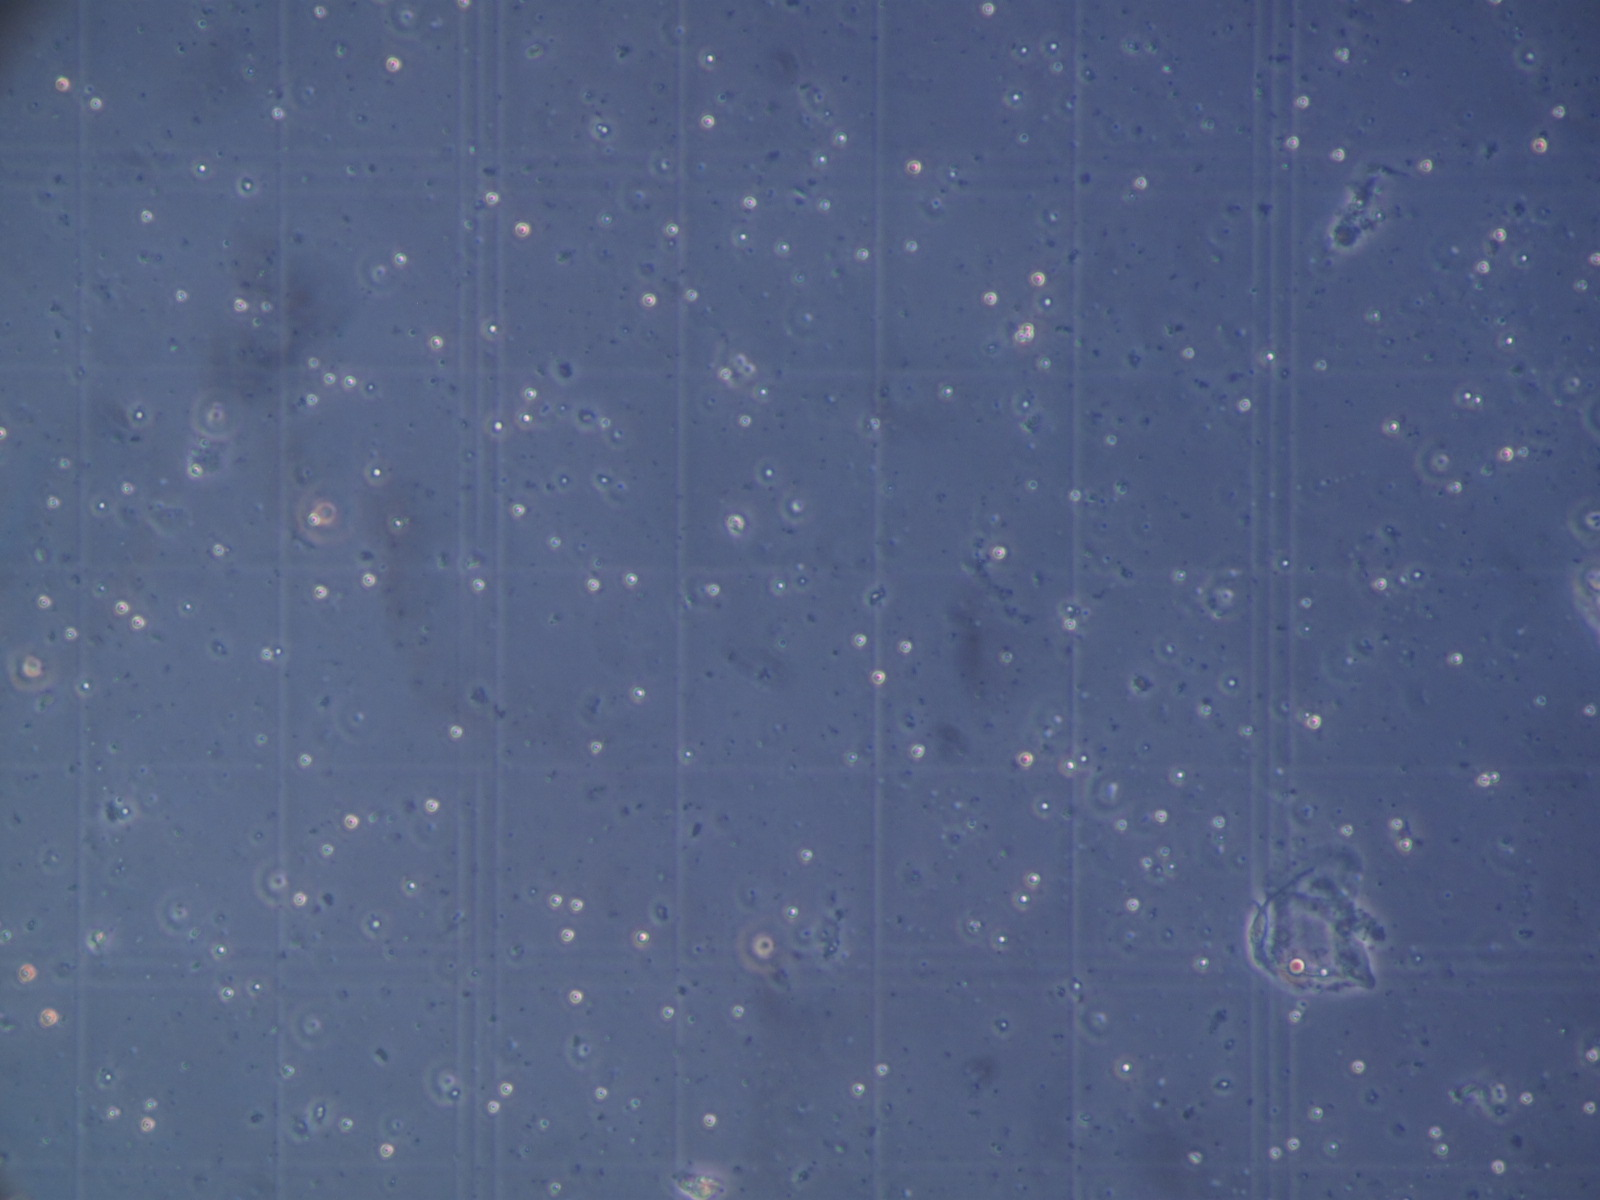virus: (777, 489, 813, 524), (1512, 39, 1545, 73), (753, 454, 784, 487), (360, 909, 391, 940), (1010, 389, 1041, 418), (989, 1008, 1017, 1039), (362, 459, 391, 487), (1111, 1053, 1139, 1082), (1032, 287, 1061, 315), (1217, 669, 1246, 697), (1072, 746, 1099, 776), (125, 400, 151, 429), (483, 413, 511, 440), (1511, 243, 1538, 270), (477, 316, 506, 342), (551, 466, 577, 493), (1032, 793, 1058, 819), (1010, 38, 1036, 66), (1451, 382, 1477, 410), (590, 118, 619, 142), (988, 926, 1014, 952), (1002, 86, 1028, 111), (1039, 32, 1065, 58), (829, 124, 854, 149), (234, 171, 260, 197), (88, 493, 113, 517), (244, 976, 271, 998), (1012, 891, 1039, 913), (729, 224, 753, 248), (697, 47, 721, 71), (769, 574, 792, 597), (73, 673, 98, 696), (677, 742, 699, 765), (1275, 551, 1296, 575), (1023, 868, 1044, 891), (1497, 329, 1519, 350), (1169, 763, 1189, 787), (1060, 753, 1078, 778), (115, 802, 136, 823), (98, 1065, 118, 1087), (270, 642, 290, 663), (1407, 566, 1427, 587), (1471, 387, 1488, 411), (389, 512, 407, 532), (1018, 749, 1036, 768), (191, 160, 212, 176), (178, 597, 197, 614), (1304, 713, 1322, 730), (513, 223, 530, 238), (1490, 227, 1508, 242), (107, 1105, 123, 1121), (511, 503, 527, 519), (910, 742, 925, 759), (906, 160, 922, 175), (1262, 350, 1279, 366), (1477, 258, 1493, 274), (1585, 1047, 1599, 1065), (220, 984, 236, 1000), (1330, 147, 1346, 163), (1532, 137, 1547, 153), (1196, 955, 1211, 971), (404, 877, 418, 894), (1477, 771, 1490, 788), (1492, 1158, 1506, 1175), (54, 78, 69, 92), (386, 58, 401, 72), (568, 991, 583, 1005), (569, 899, 585, 913), (800, 848, 814, 863), (430, 334, 443, 349), (700, 115, 716, 129), (776, 241, 791, 255), (871, 671, 886, 684), (1031, 272, 1046, 286), (1126, 897, 1140, 913), (1519, 1092, 1534, 1105), (1584, 1100, 1597, 1116), (990, 547, 1007, 560), (233, 299, 247, 313), (731, 1005, 745, 1018), (738, 415, 752, 429), (1552, 105, 1566, 118), (1374, 576, 1388, 590), (1450, 652, 1464, 666), (1212, 814, 1226, 828), (1398, 837, 1412, 851), (559, 929, 574, 942), (632, 687, 648, 700), (471, 579, 486, 591), (524, 386, 537, 401), (743, 195, 756, 211), (1286, 135, 1299, 150), (1180, 345, 1196, 358), (1500, 447, 1513, 463), (1311, 1105, 1324, 1121), (897, 642, 913, 653), (144, 1097, 156, 1111), (214, 943, 227, 957), (499, 1082, 511, 1095), (344, 816, 357, 829), (37, 595, 50, 608), (314, 586, 328, 599), (57, 456, 69, 470), (549, 1181, 562, 1195), (636, 932, 650, 944), (876, 1064, 889, 1076), (450, 726, 464, 739), (362, 574, 375, 586), (485, 192, 498, 205), (643, 295, 656, 308), (719, 367, 732, 381), (625, 574, 639, 586), (853, 633, 867, 645), (984, 291, 997, 305), (1296, 95, 1309, 108), (1576, 279, 1590, 291), (1189, 1151, 1203, 1163), (1328, 1141, 1340, 1155), (1391, 817, 1403, 831), (1339, 824, 1352, 838), (1139, 856, 1153, 868), (1429, 1127, 1443, 1139), (854, 248, 869, 260), (1155, 808, 1167, 823), (1448, 480, 1463, 492), (380, 1143, 393, 1156), (132, 616, 145, 629), (307, 514, 320, 527), (394, 251, 407, 263), (551, 895, 563, 908), (661, 1006, 674, 1018), (786, 906, 799, 919), (344, 376, 357, 388), (983, 3, 995, 15), (906, 239, 918, 252), (1371, 309, 1383, 321), (1388, 421, 1401, 434), (1489, 771, 1502, 784), (488, 1100, 499, 1114), (427, 799, 438, 813), (115, 603, 129, 614), (704, 1114, 716, 1128), (323, 373, 336, 384), (757, 384, 769, 398), (816, 153, 828, 166), (1136, 176, 1148, 190), (1339, 48, 1351, 62), (1041, 357, 1052, 371), (1288, 1011, 1301, 1022), (1237, 400, 1252, 410), (294, 892, 305, 905), (321, 843, 333, 856), (300, 753, 311, 765), (121, 483, 134, 494), (189, 464, 202, 475), (176, 290, 188, 303), (140, 211, 152, 222), (314, 4, 325, 16), (596, 1087, 607, 1099), (519, 412, 532, 424), (666, 223, 678, 236), (707, 584, 719, 595), (819, 199, 831, 211), (1421, 160, 1432, 173), (1065, 619, 1076, 632), (1070, 489, 1081, 502), (1106, 434, 1117, 446), (1116, 818, 1128, 831), (1352, 1063, 1364, 1074), (1437, 1145, 1450, 1156), (66, 626, 76, 640), (1271, 1147, 1281, 1161), (141, 1119, 152, 1131), (261, 648, 272, 659), (853, 1084, 864, 1095), (591, 742, 602, 754), (551, 537, 562, 548), (1242, 724, 1254, 735), (1174, 568, 1186, 580), (848, 751, 859, 763), (272, 107, 282, 120), (685, 290, 695, 303), (1590, 253, 1600, 266), (601, 416, 611, 429), (944, 386, 952, 400), (341, 1119, 353, 1129), (214, 545, 224, 556), (91, 98, 101, 110), (588, 579, 598, 590), (1023, 332, 1034, 342), (1288, 1139, 1299, 1150), (1201, 705, 1212, 715), (307, 395, 317, 405), (49, 498, 58, 508), (1017, 332, 1026, 342), (1023, 324, 1033, 333), (1167, 863, 1178, 871), (1, 429, 8, 440)
